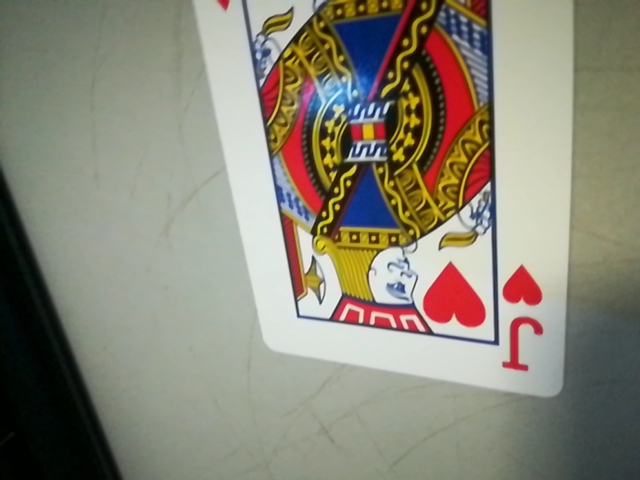hx j: (493, 261, 557, 382)
